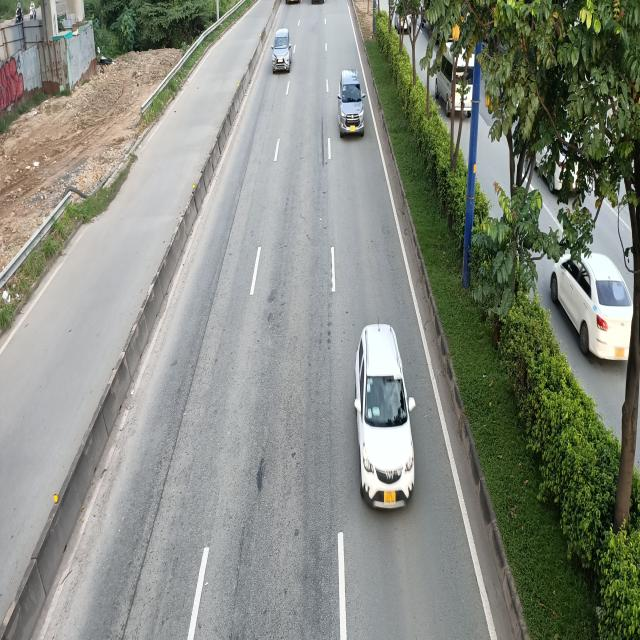car: (351, 326, 414, 510), (338, 70, 367, 136), (272, 28, 293, 73)
